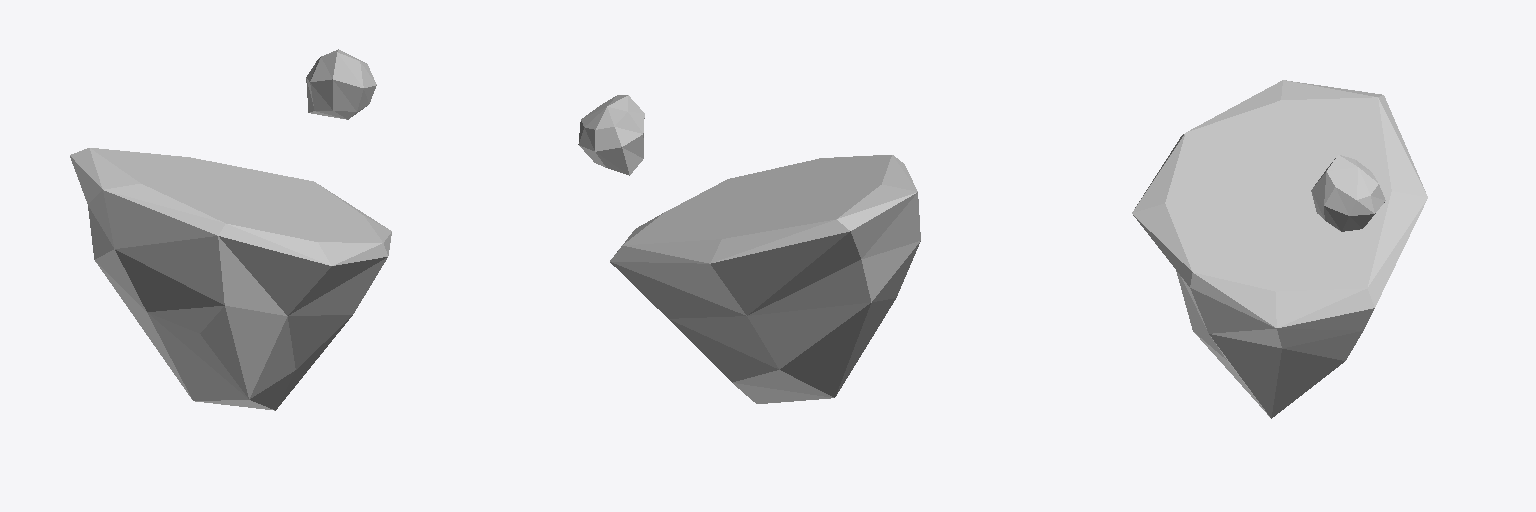
The model's file is Floating_Island_Group_4.obj.
3 renders of one model, left to right at view 1: azimuth 30°, elevation 25°; view 2: azimuth 150°, elevation 25°; view 3: azimuth 270°, elevation 25°, orthographic.
Parts seen in each view (by area): view 1: Box118, Sphere006; view 2: Box118, Sphere006; view 3: Box118, Sphere006.
Part boxes in pixels (x1,y1,x2,y2): Box118: (70, 148, 391, 410); Sphere006: (306, 49, 376, 119); Box118: (610, 155, 920, 403); Sphere006: (578, 95, 644, 175); Box118: (1132, 80, 1427, 418); Sphere006: (1311, 155, 1385, 231).
Size of the model in its own units: 51.55 by 50.47 by 43.66.